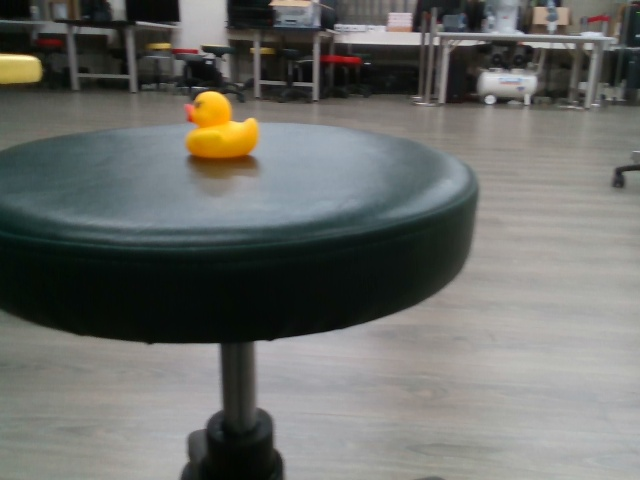duck: (182, 88, 261, 161)
